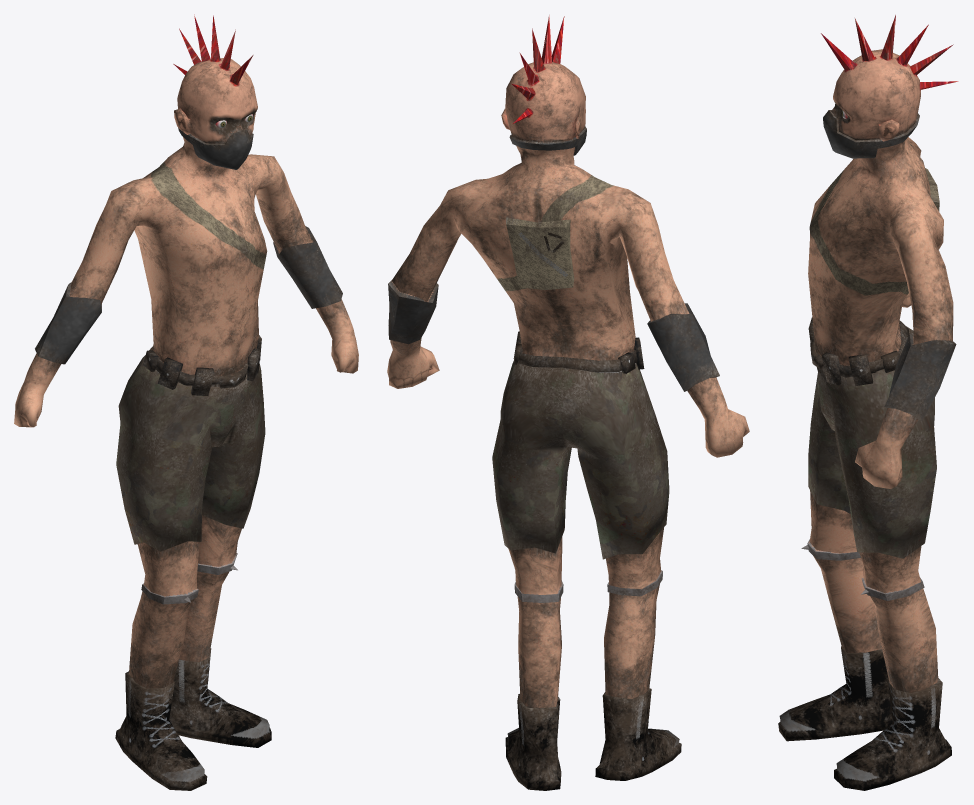
The model's file is Anim_interruptor_npc2.0034.obj.
3 views of the same model, side by side, from view 1: azimuth 30°, elevation 25°; view 2: azimuth 150°, elevation 25°; view 3: azimuth 270°, elevation 25° (orthographic). The views are drawn at different scales.
Visible parts, largest first — view 1: polySurface1; view 2: polySurface1; view 3: polySurface1.
Part boxes in pixels (bbox=[...]): polySurface1: bbox=[14, 14, 358, 790]; polySurface1: bbox=[387, 15, 749, 790]; polySurface1: bbox=[778, 15, 958, 790].
Bounding box in the file's own units: 5.06 × 10.14 × 2.2.
2 materials, 2 textured.
